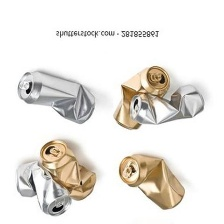can: (12, 67, 96, 125), (114, 151, 186, 212), (108, 64, 171, 133), (37, 136, 99, 203), (9, 159, 71, 216), (129, 83, 207, 124)
